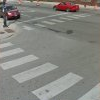crosswalk: (0, 41, 83, 100), (22, 12, 94, 32)
